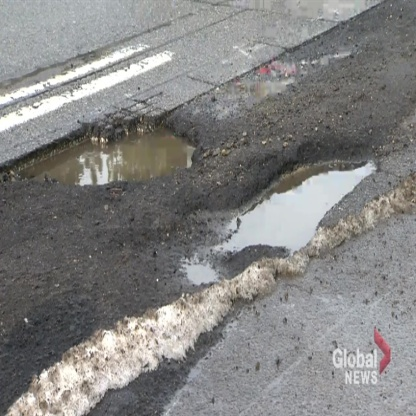pothole: (176, 128, 389, 304), (1, 90, 209, 221)
